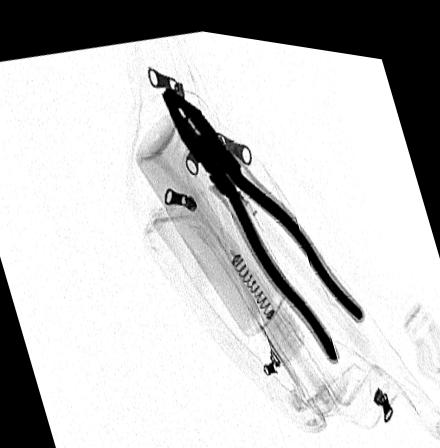Pliers: (160, 79, 363, 353)
